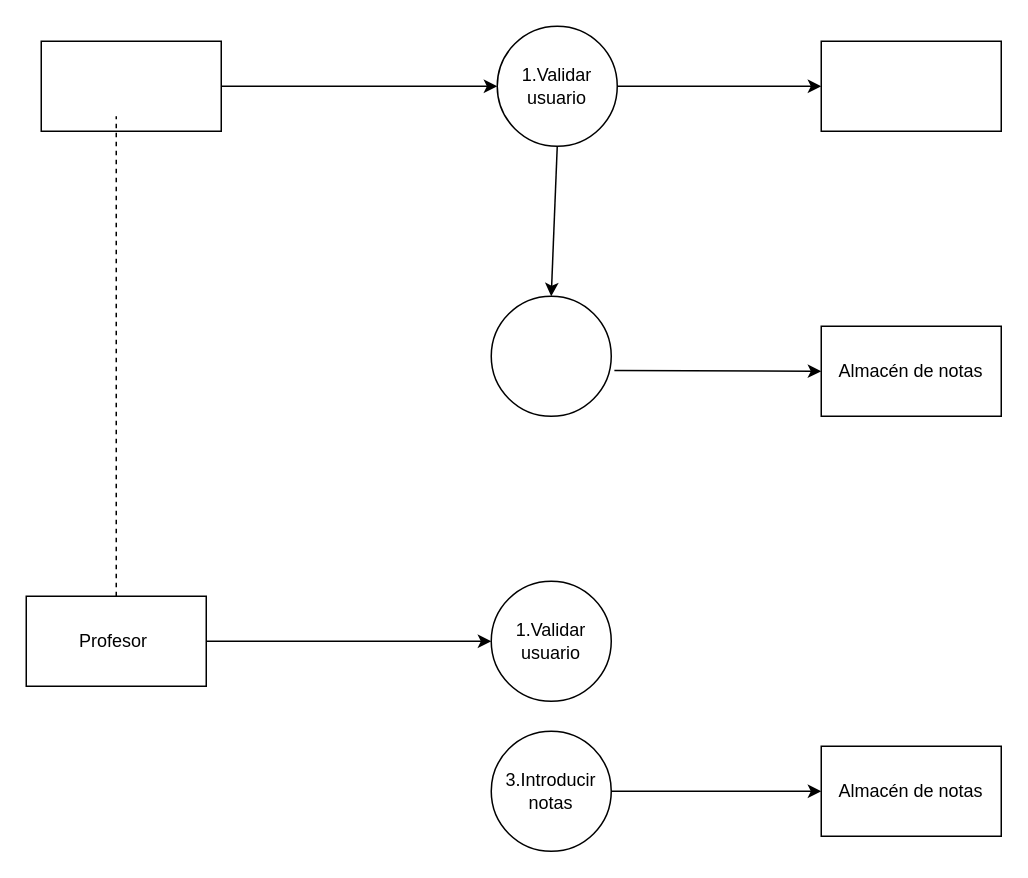
Some shapes in this 1028 by 878 pixel diagram are drawn without their labels. The centre of each missing label's shape, as x and y in pixels:
"2.Consultar notas" goes at [550,355].
"Alumno" goes at [130,85].
"BD usuario" goes at [910,85].
